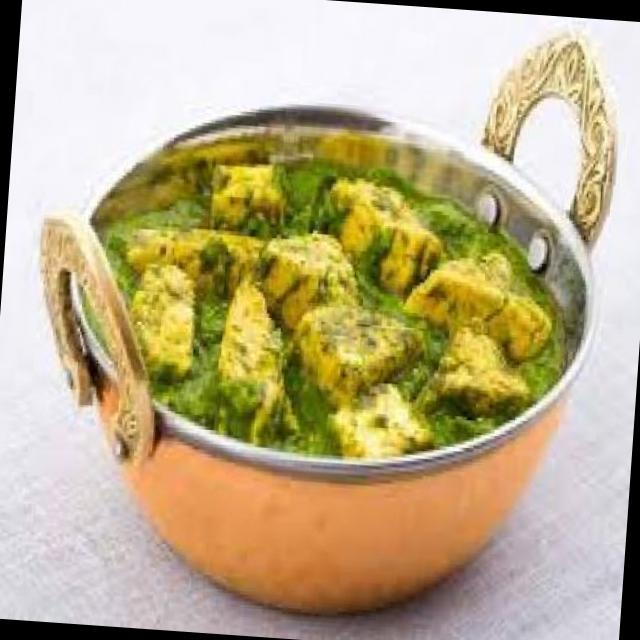palak_paneer: (79, 142, 576, 472)
